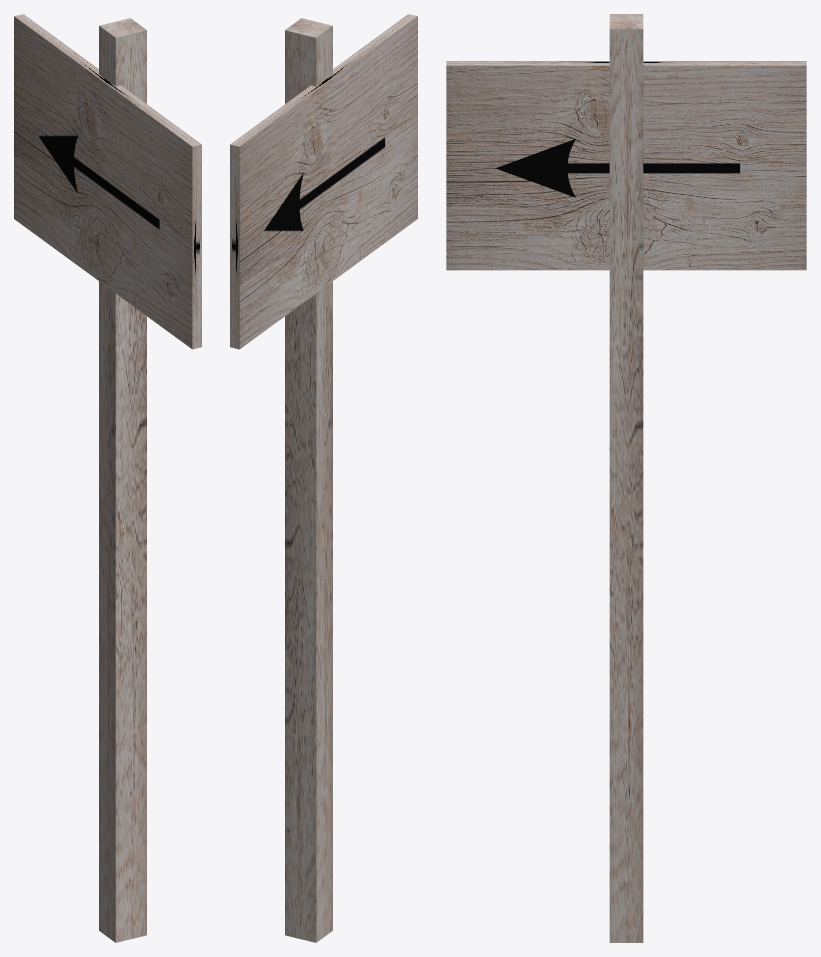
The model's file is Schild Links.fbx.
The picture shows the model from 3 angles, left to right: view 1: azimuth 30°, elevation 25°; view 2: azimuth 150°, elevation 25°; view 3: azimuth 270°, elevation 25°; orthographic projection.
Visible parts, largest first — view 1: Cube__1_, Cube; view 2: Cube__1_, Cube; view 3: Cube__1_, Cube.
Boxes of the visible parts, x1,y1,x2,y2 form: Cube__1_: [14, 14, 201, 349]; Cube: [99, 18, 146, 942]; Cube__1_: [230, 14, 417, 349]; Cube: [285, 18, 332, 942]; Cube__1_: [446, 61, 806, 270]; Cube: [609, 14, 643, 942].
Bounding box in the file's own units: 12.87 × 313 × 112.
